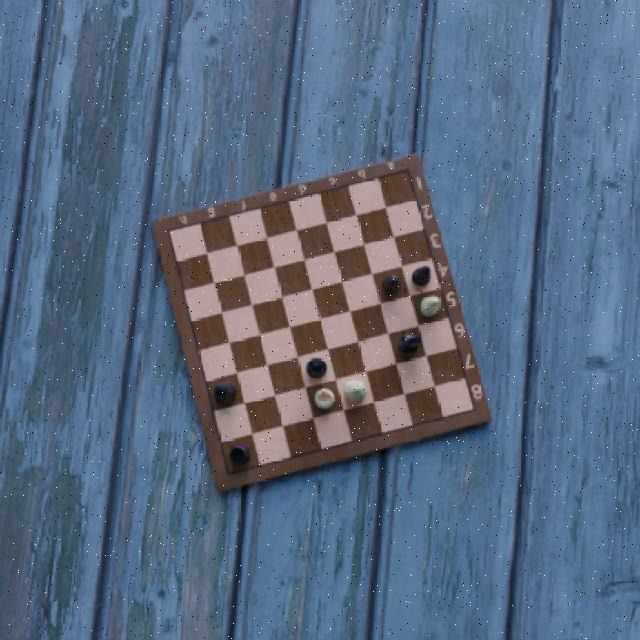black-bishop: (382, 271, 402, 297)
black-king: (211, 378, 238, 410)
black-knight: (398, 334, 424, 358)
black-pawn: (412, 264, 432, 287)
black-rook: (228, 442, 252, 470)
white-king: (342, 379, 370, 405)
white-knight: (416, 287, 442, 321)
white-queen: (305, 356, 327, 380)
white-rook: (312, 386, 336, 414)
